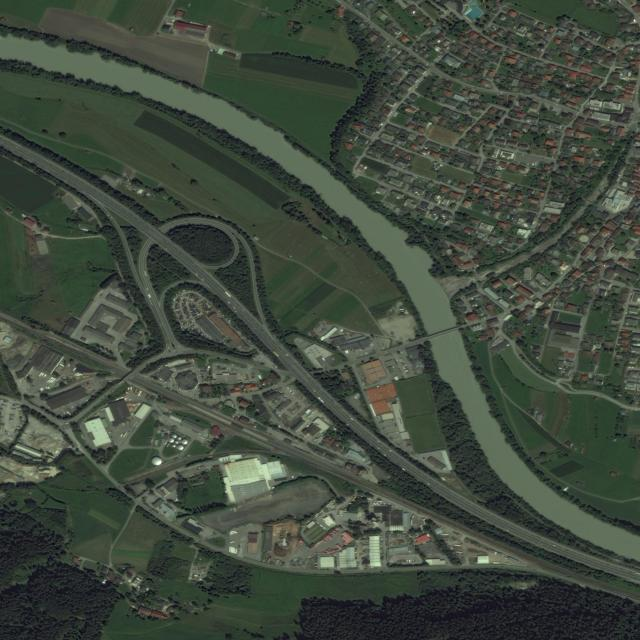storage-tank: (151, 457, 163, 465), (176, 445, 184, 450), (168, 438, 174, 443), (182, 439, 188, 444), (172, 434, 177, 438), (172, 444, 176, 448), (175, 441, 180, 444), (178, 437, 182, 440)
